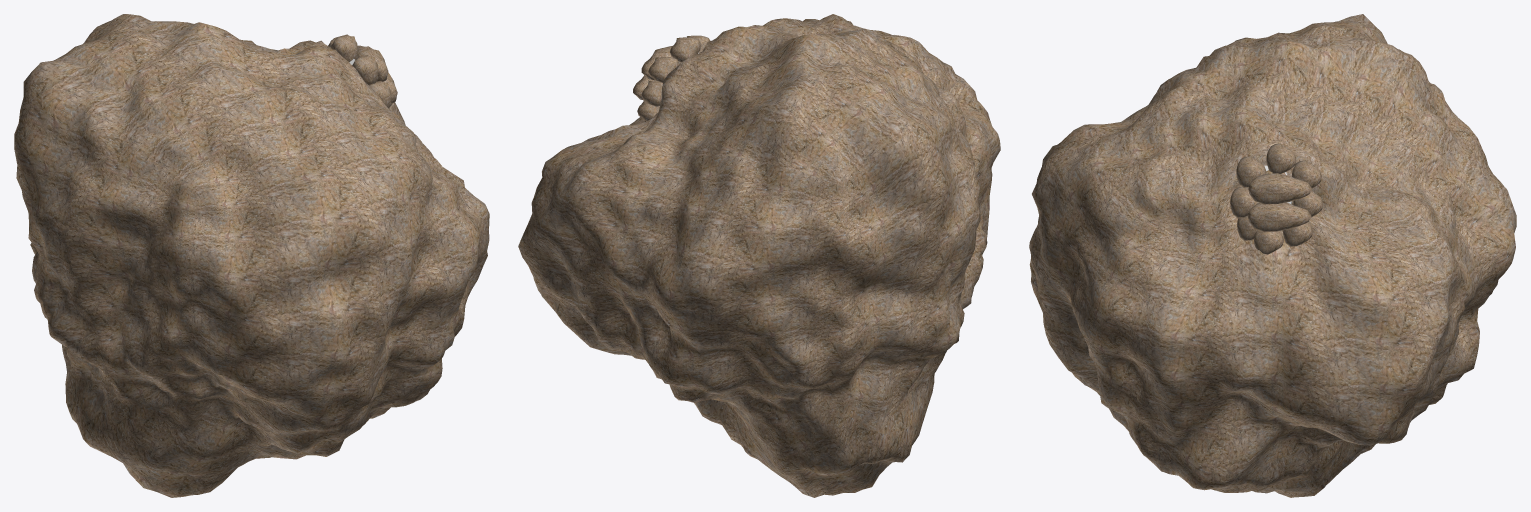
Rendered from monument_extended.fbx.
3 renders of one model, left to right at view 1: azimuth 30°, elevation 25°; view 2: azimuth 150°, elevation 25°; view 3: azimuth 270°, elevation 25°, orthographic. The views are drawn at different scales.
Parts seen in each view (by area): view 1: TheAsteroid.002, Cube.008, Cube.009; view 2: TheAsteroid.002, Cube.009, Cube.010; view 3: TheAsteroid.002, Cube.015, Cube.016, Cube.009, Cube.008, Cube.007, Cube.013, Cube.010.
Boxes of the visible parts, box(x1,y1,x2,y2) form: TheAsteroid.002: box(14, 14, 489, 497); Cube.008: box(352, 55, 378, 85); Cube.009: box(330, 34, 357, 61); TheAsteroid.002: box(518, 14, 1000, 497); Cube.009: box(669, 37, 701, 62); Cube.010: box(648, 57, 679, 82); TheAsteroid.002: box(1029, 14, 1516, 497); Cube.015: box(1248, 173, 1311, 204); Cube.016: box(1247, 202, 1311, 232); Cube.009: box(1266, 143, 1296, 173); Cube.008: box(1236, 156, 1266, 187); Cube.007: box(1230, 187, 1257, 218); Cube.013: box(1253, 230, 1283, 254); Cube.010: box(1291, 160, 1321, 188).
Bounding box in the file's own units: 2147 × 2042 × 2215.
2 materials, 2 textured.
